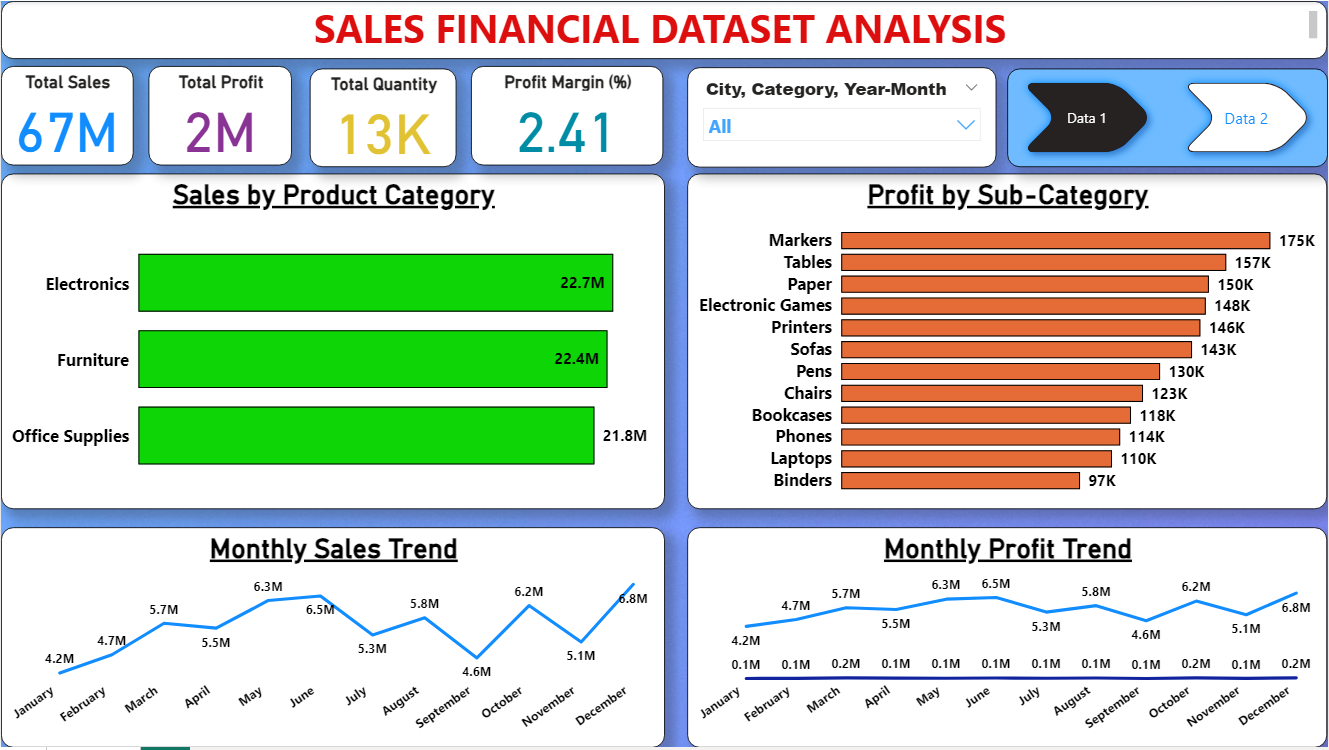

What the dashboard file says about the page in this screenshot:
{"tool":"powerbi","page":{"name":"Data 1","canvas":[1280,720],"ordinal":0},"visuals":[{"type":"textbox","box":[0,0,1280.3,56.3],"z":0},{"type":"barChart","title":"Sales by Product Category","fields":{"Y":["Sum(Sales Dataset.Sales)"],"Category":["Sales Dataset.Category"]},"box":[0,166,640.8,323.8],"z":1000},{"type":"barChart","title":"Profit by Sub-Category","fields":{"Category":["Sales Dataset.Sub-Category"],"Y":["Sum(Sales Dataset.Profit)"]},"box":[662.8,166,617.5,323.8],"z":2000},{"type":"lineChart","title":"Monthly Sales Trend","fields":{"Category":["Sales Dataset.Year-Month.Variation.Date Hierarchy.Month"],"Y":["Sum(Sales Dataset.Sales)"]},"box":[0,507.7,640.8,212.7],"z":3000},{"type":"lineChart","title":"Monthly Profit Trend","fields":{"Category":["Sales Dataset.Year-Month.Variation.Date Hierarchy.Month"],"Y":["Sum(Sales Dataset.Sales)","Sum(Sales Dataset.Profit)"]},"box":[662.8,507.7,617.5,212.7],"z":4000},{"type":"card","title":"Total Sales","fields":{"Values":["Sum(Sales Dataset.Sales)"]},"box":[0,63.1,127.6,96.1],"z":5000},{"type":"card","title":"Total Profit","fields":{"Values":["Sum(Sales Dataset.Profit)"]},"box":[142.7,63.1,138.6,96.1],"z":6000},{"type":"card","title":"Total Quantity ","fields":{"Values":["Sum(Sales Dataset.Quantity)"]},"box":[298.4,64.8,141.8,95.4],"z":7000},{"type":"card","title":"Profit Margin (%)","fields":{"Values":["Sales Dataset.Profit Margin (%)"]},"box":[454.2,63.1,185.2,96.1],"z":8000},{"type":"slicer","fields":{"Values":["Sales Dataset.City","Sales Dataset.Category","Sales Dataset.Year-Month"]},"box":[662.8,63.6,298.4,96.6],"z":9000},{"type":"pageNavigator","box":[970.9,64.8,309.4,95.4],"z":10000}]}

Visuals, with their boxes in screenshot pixels (x1, y1, x2, y2), scaled from the page's 1280x720 canvas onto the 1329x750 screenshot:
textbox: <bbox>0, 0, 1328, 59</bbox>
"Sales by Product Category" barChart: <bbox>0, 173, 665, 510</bbox>
"Profit by Sub-Category" barChart: <bbox>688, 173, 1328, 510</bbox>
"Monthly Sales Trend" lineChart: <bbox>0, 529, 665, 749</bbox>
"Monthly Profit Trend" lineChart: <bbox>688, 529, 1328, 749</bbox>
"Total Sales" card: <bbox>0, 66, 132, 166</bbox>
"Total Profit" card: <bbox>148, 66, 292, 166</bbox>
"Total Quantity " card: <bbox>310, 68, 457, 167</bbox>
"Profit Margin (%)" card: <bbox>472, 66, 664, 166</bbox>
slicer - Sales Dataset.City x Sales Dataset.Category: <bbox>688, 66, 998, 167</bbox>
pageNavigator: <bbox>1008, 68, 1328, 167</bbox>
